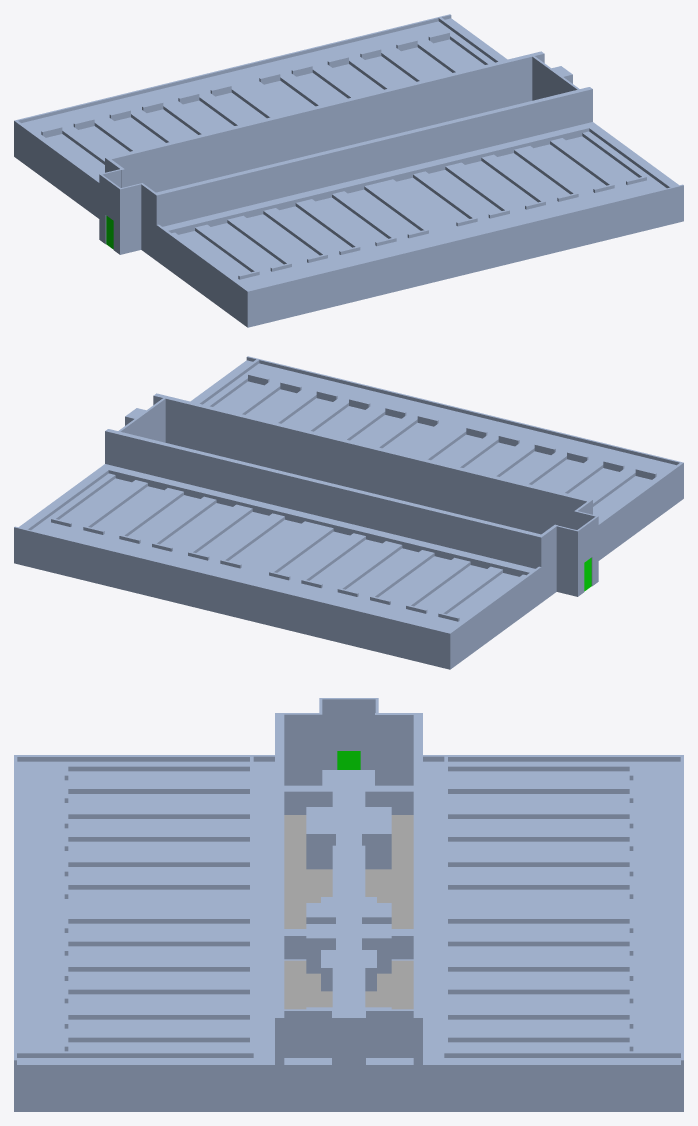
File: C_Filter_expansion.glb
3 views of the same model, one above another, from view 1: azimuth 30°, elevation 25°; view 2: azimuth 150°, elevation 25°; view 3: azimuth 270°, elevation 25° (orthographic). The views are drawn at different scales.
Visible parts, largest first — view 1: Floor1; view 2: Floor1; view 3: Floor1.
Boxes of the visible parts, <box> form: Floor1: <box>14,14,683,327</box>; Floor1: <box>14,356,683,669</box>; Floor1: <box>14,698,683,1111</box>.
Bounding box in the file's own units: 58.4 × 8 × 51.7.
